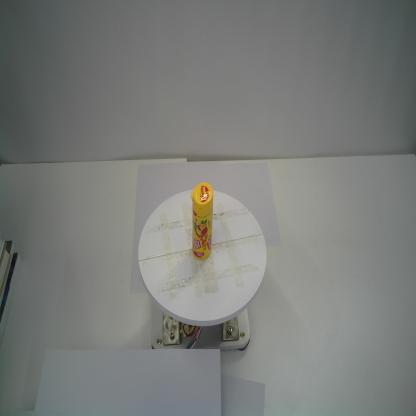Candy: (189, 179, 215, 265)
